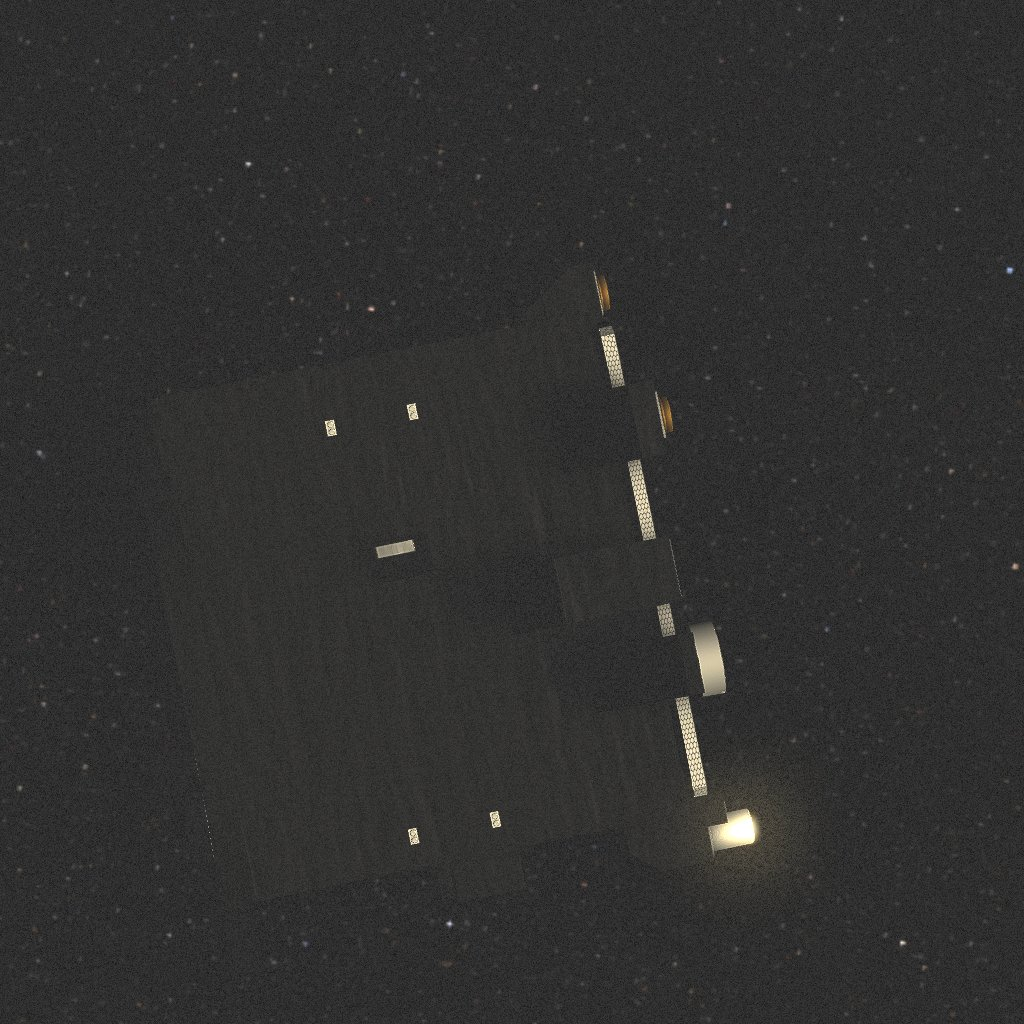proba_3_ocs: (30, 263, 754, 976)
